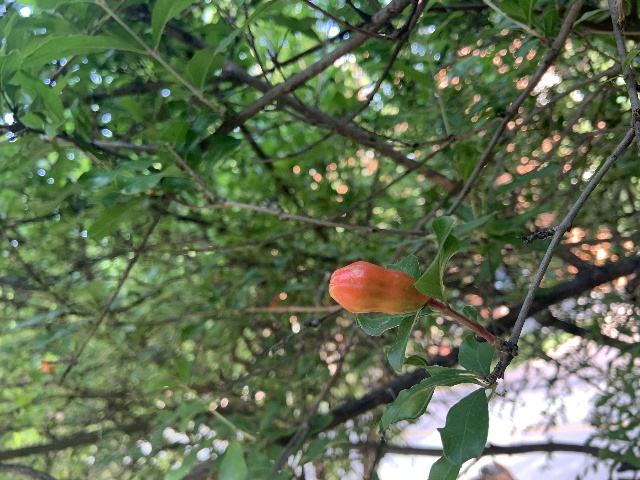bud: (330, 260, 429, 314)
